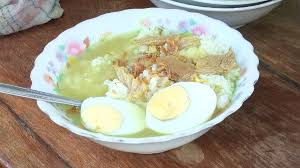soto: (37, 13, 271, 148)
